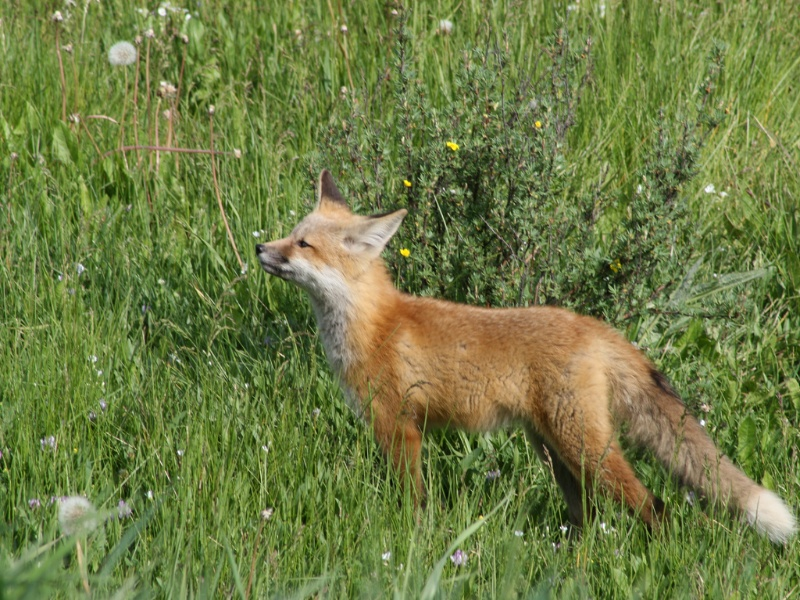fox: (257, 167, 800, 560)
